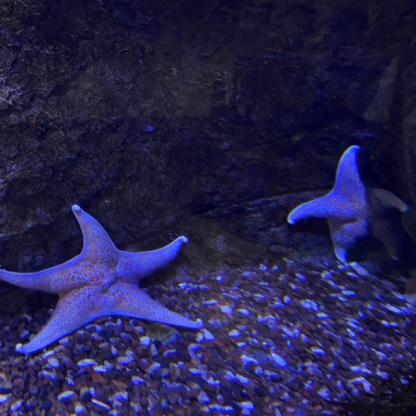starfish: (0, 204, 203, 356), (289, 145, 408, 265)
